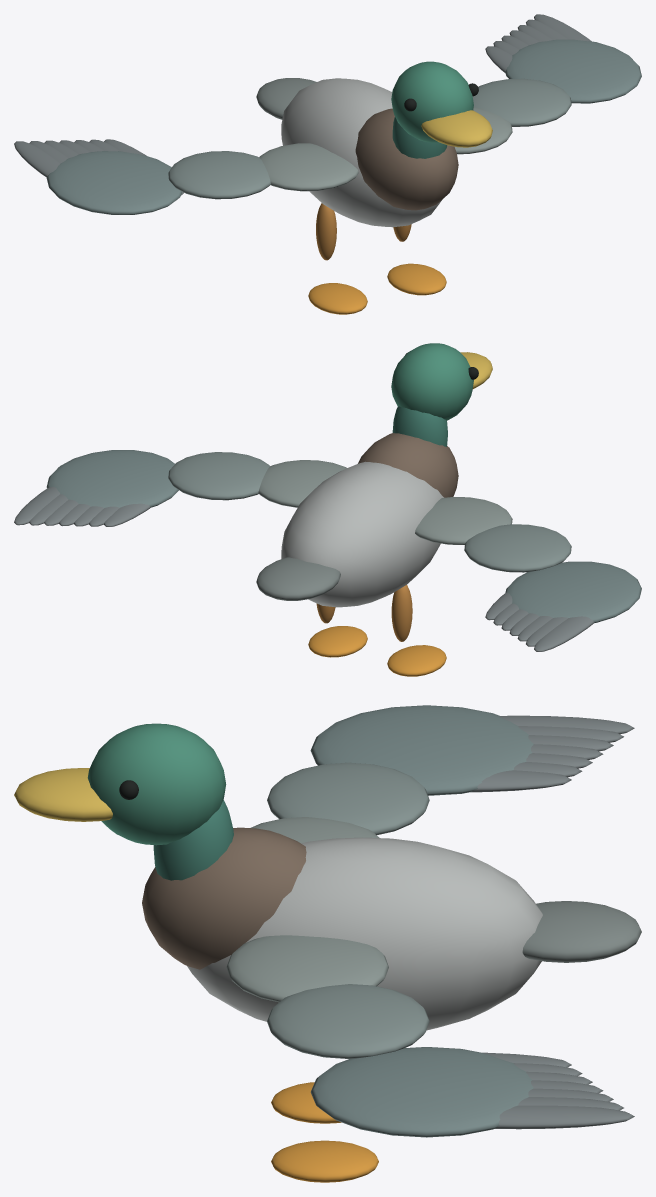
Rendered from synthetic_bird_spread_source.glb.
3 views of the same model, one above another, from view 1: azimuth 30°, elevation 25°; view 2: azimuth 150°, elevation 25°; view 3: azimuth 270°, elevation 25° (orthographic). The views are drawn at different scales.
Visible parts, largest first — view 1: Surface; view 2: Surface; view 3: Surface.
Part boxes in pixels (left/top/right/bottom): Surface: left=14, top=14, right=641, bottom=314; Surface: left=14, top=343, right=641, bottom=676; Surface: left=14, top=705, right=641, bottom=1182.
Bounding box in the file's own units: 1.74 × 0.786 × 1.08.
